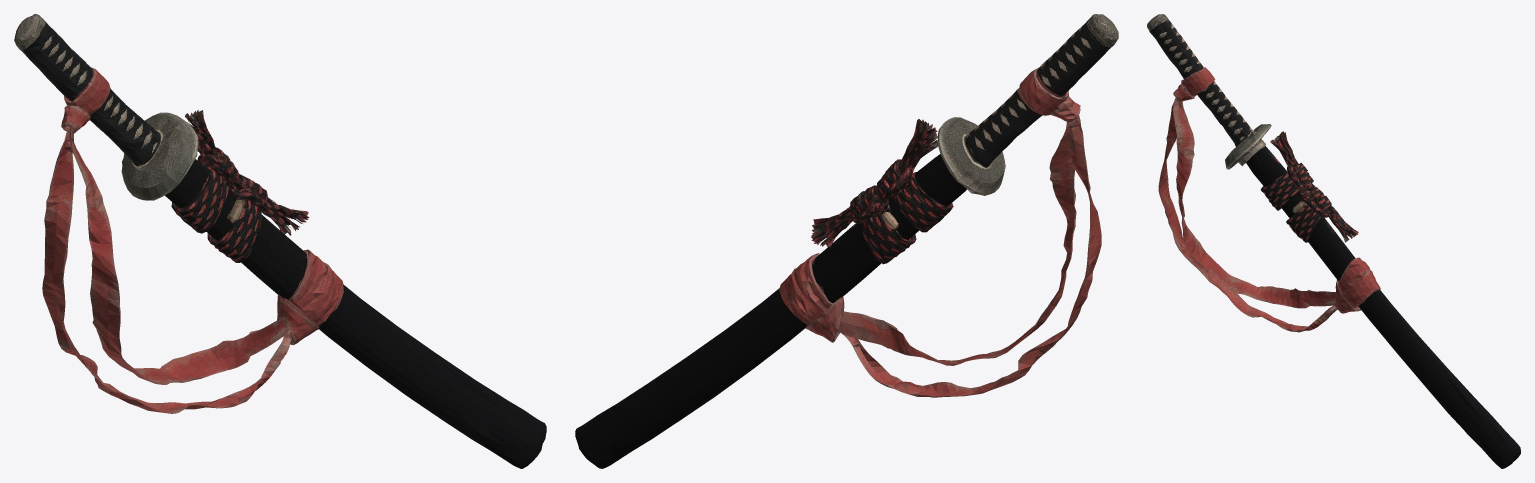
File: ewm_katana.glb
3 views of the same model, side by side, from view 1: azimuth 30°, elevation 25°; view 2: azimuth 150°, elevation 25°; view 3: azimuth 330°, elevation 25° (orthographic). The views are drawn at different scales.
Visible parts, largest first — view 1: ewm_katana; view 2: ewm_katana; view 3: ewm_katana.
Boxes of the visible parts, x1,y1,x2,y2 form: ewm_katana: (14, 14, 546, 468); ewm_katana: (575, 14, 1118, 468); ewm_katana: (1147, 14, 1520, 468).
Size of the model in its own units: 0.9792 by 1 by 0.1733.
Materials: 1 (1 with a texture image).
